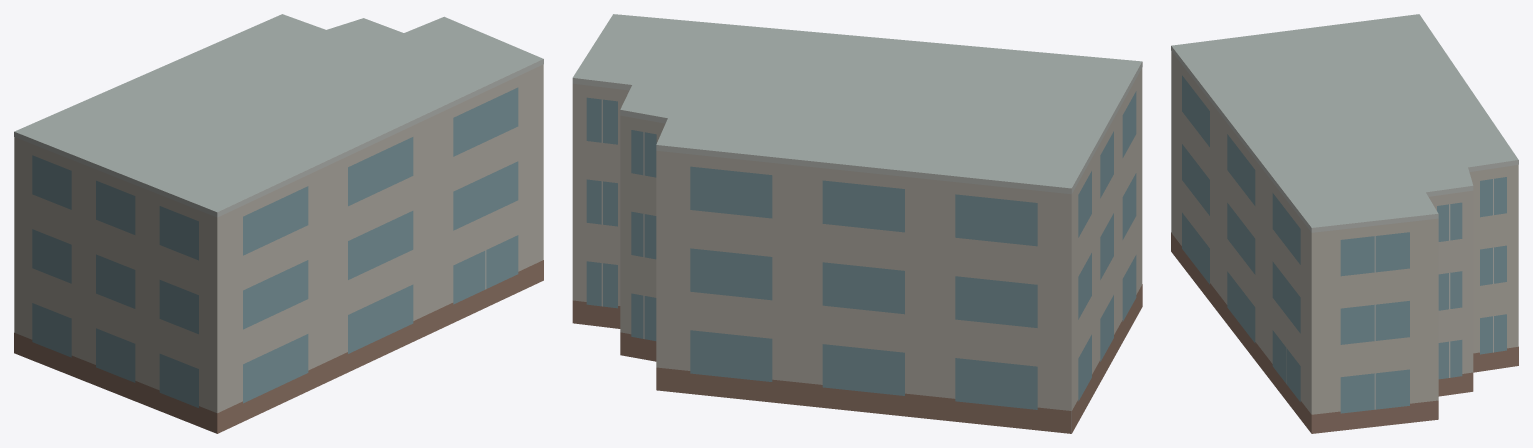
Rendered from survey-upis-33003246.glb.
3 views of the same model, side by side, from view 1: azimuth 30°, elevation 25°; view 2: azimuth 150°, elevation 25°; view 3: azimuth 270°, elevation 25° (orthographic). The views are drawn at different scales.
Visible parts, largest first — view 1: survey-upis-33003246.tmp; view 2: survey-upis-33003246.tmp; view 3: survey-upis-33003246.tmp.
Part boxes in pixels (<box>): survey-upis-33003246.tmp: <box>14,14,543,433</box>; survey-upis-33003246.tmp: <box>572,14,1142,433</box>; survey-upis-33003246.tmp: <box>1171,14,1518,433</box>.
Bounding box in the file's own units: 22.96 × 10.3 × 15.77.
